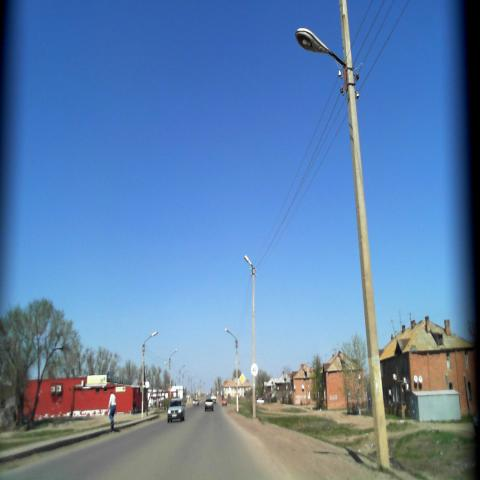2_1: (239, 372, 246, 384)
3_24: (250, 363, 258, 377)
